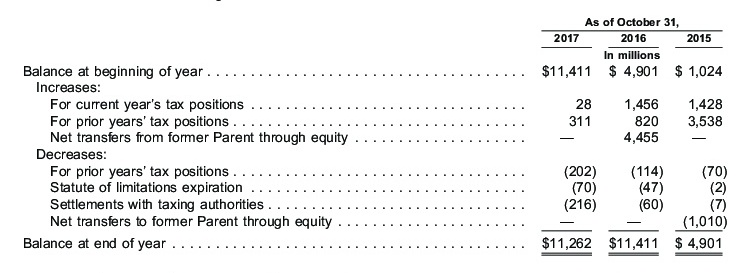table: (0, 0, 745, 273)
